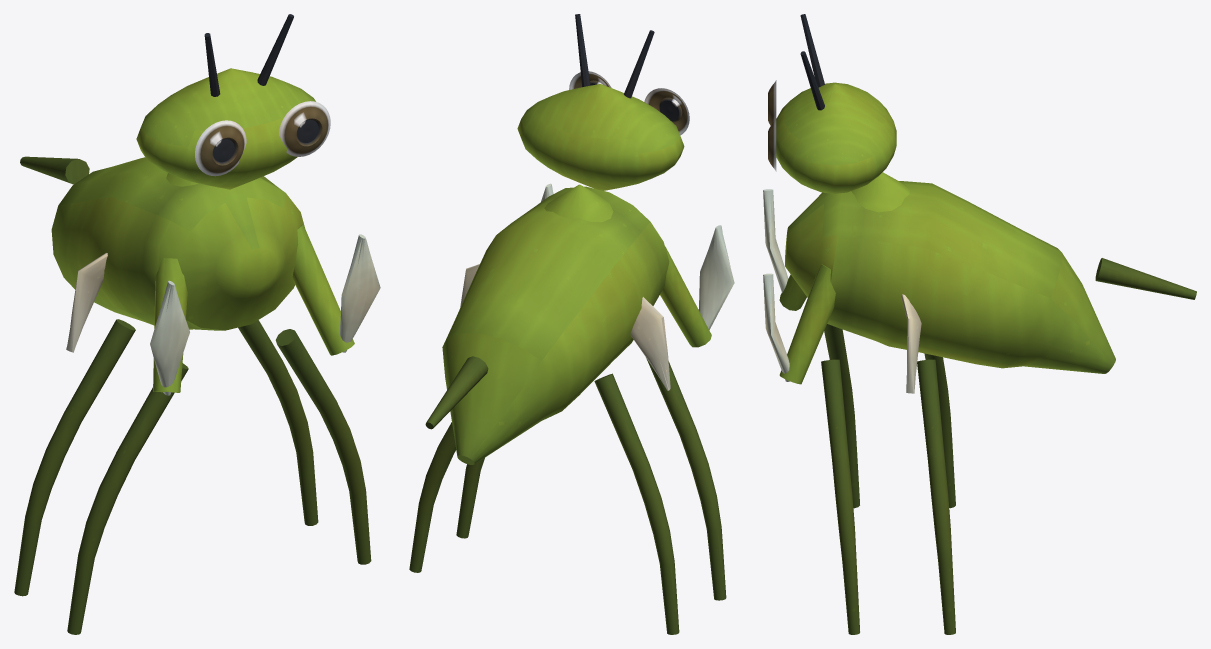
The model's file is sp_kamakirin-fmfv88wa.glb.
The picture shows the model from 3 angles, left to right: view 1: azimuth 30°, elevation 25°; view 2: azimuth 150°, elevation 25°; view 3: azimuth 270°, elevation 25°; orthographic projection. The views are drawn at different scales.
Parts seen in each view (by area): view 1: Body, HeadMesh, Leg-1_0, ArmMesh1, Leg-1_1, Leg1_1, ArmMesh-1, Leg1_0, PetalLobes, Tail; view 2: Body, HeadMesh, Leg-1_0, ArmMesh-1, Leg-1_1, Leg1_0, PetalLobes, Tail, Leg1_1; view 3: Body, HeadMesh, Leg1_0, Leg1_1, ArmMesh1, Leg-1_1, Tail, ArmMesh-1, Leg-1_0, PetalLobes.
Boxes of the visible parts, x1,y1,x2,y2 form: Body: [51, 157, 304, 330]; HeadMesh: [136, 14, 330, 189]; Leg-1_0: [14, 319, 135, 596]; ArmMesh1: [292, 224, 380, 355]; Leg-1_1: [67, 363, 188, 634]; Leg1_1: [275, 329, 371, 564]; ArmMesh-1: [150, 258, 189, 395]; Leg1_0: [238, 320, 318, 525]; PetalLobes: [66, 253, 107, 352]; Tail: [20, 156, 89, 184]; Body: [442, 184, 669, 464]; HeadMesh: [517, 14, 689, 190]; Leg-1_0: [594, 373, 679, 634]; ArmMesh-1: [660, 225, 734, 347]; Leg-1_1: [646, 358, 726, 600]; Leg1_0: [409, 422, 456, 572]; PetalLobes: [460, 264, 670, 390]; Tail: [425, 356, 488, 429]; Leg1_1: [456, 458, 484, 538]; Body: [785, 172, 1115, 373]; HeadMesh: [768, 14, 896, 193]; Leg1_0: [917, 359, 955, 634]; Leg1_1: [821, 359, 859, 634]; ArmMesh1: [763, 264, 835, 384]; Leg-1_1: [824, 324, 859, 508]; Tail: [1095, 258, 1196, 299]; ArmMesh-1: [763, 189, 806, 310]; Leg-1_0: [924, 353, 955, 508]; PetalLobes: [901, 294, 921, 393].
Size of the model in its own units: 0.3959 by 0.7433 by 0.5431.
1 material, 1 textured.
